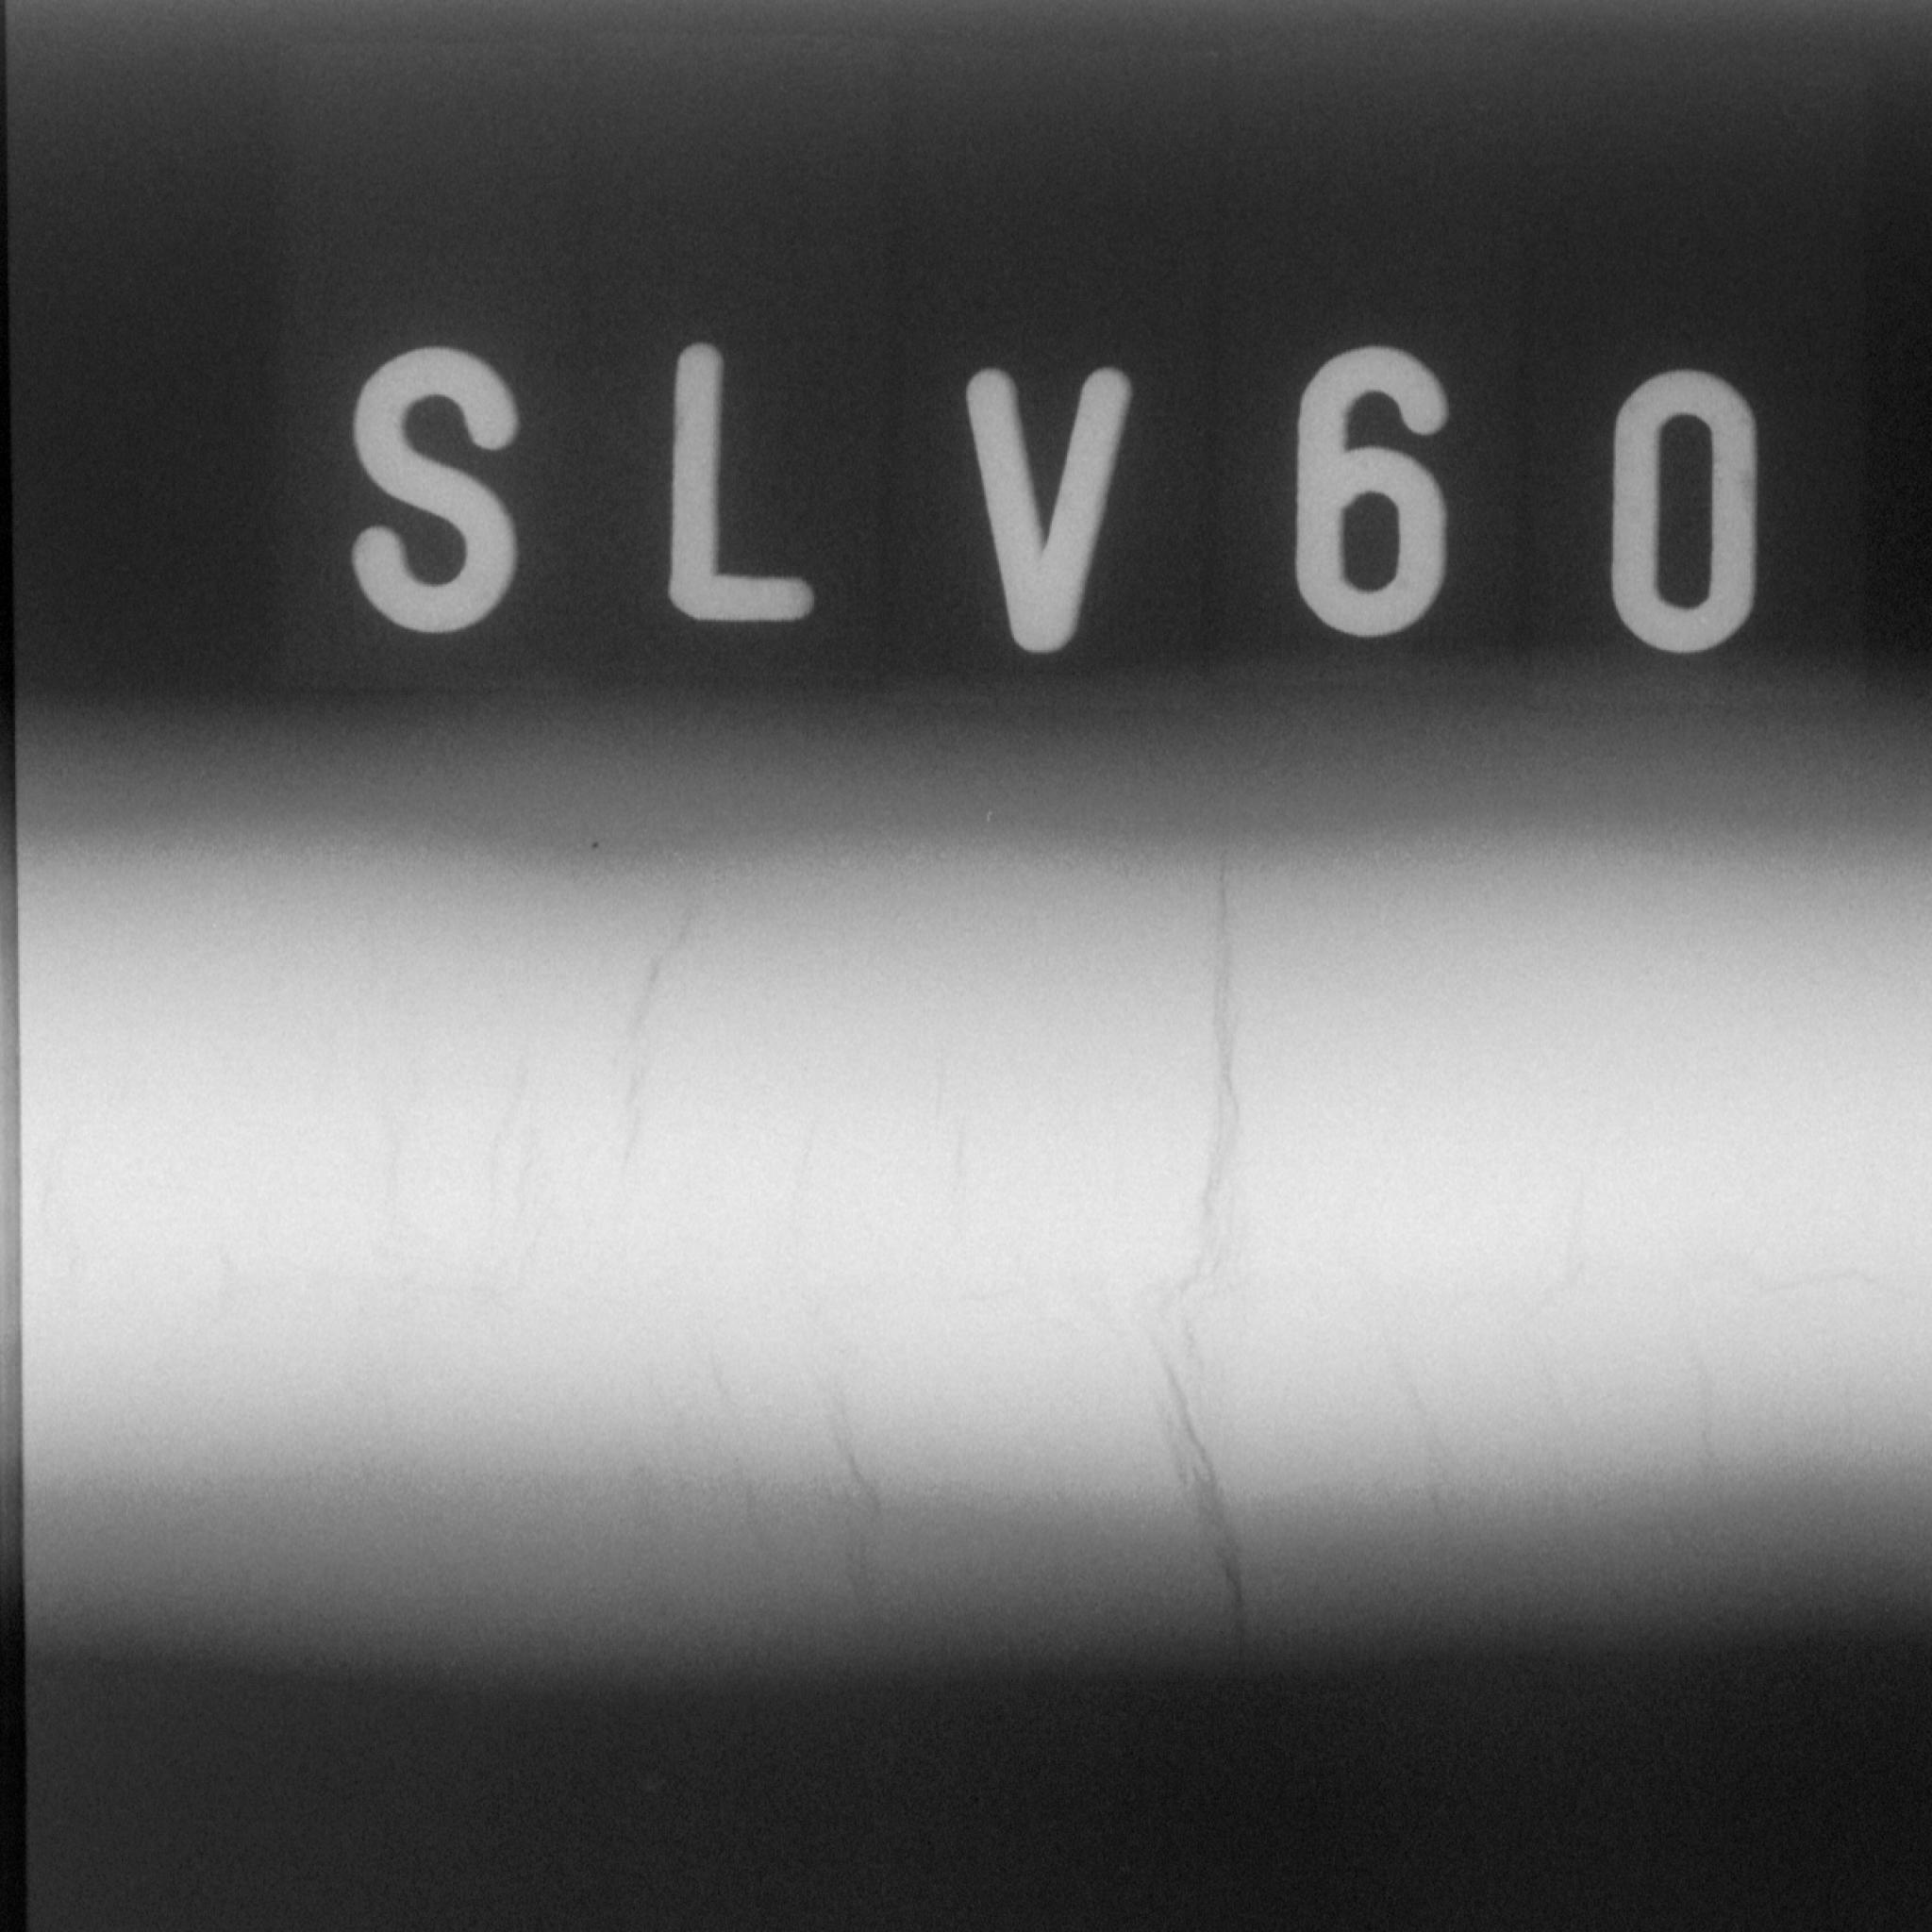Solda Ruim: (0, 670, 1932, 1809)
